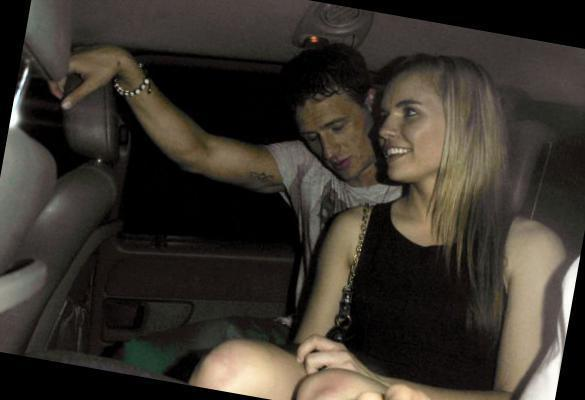Drunk: (380, 73, 448, 184), (298, 95, 371, 184)
